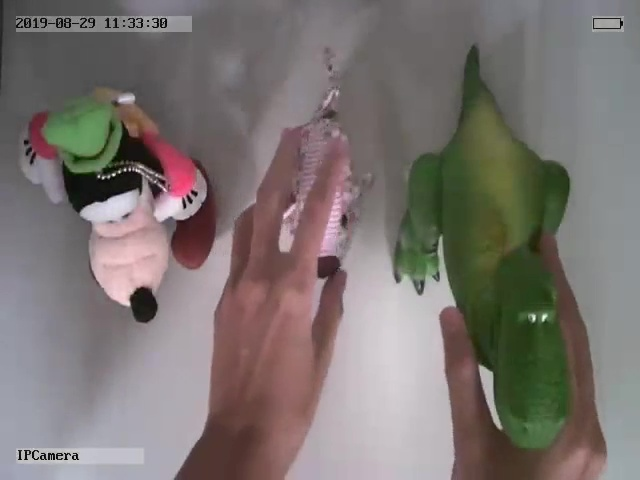goofy: (20, 85, 216, 322)
rex: (394, 44, 573, 450)
